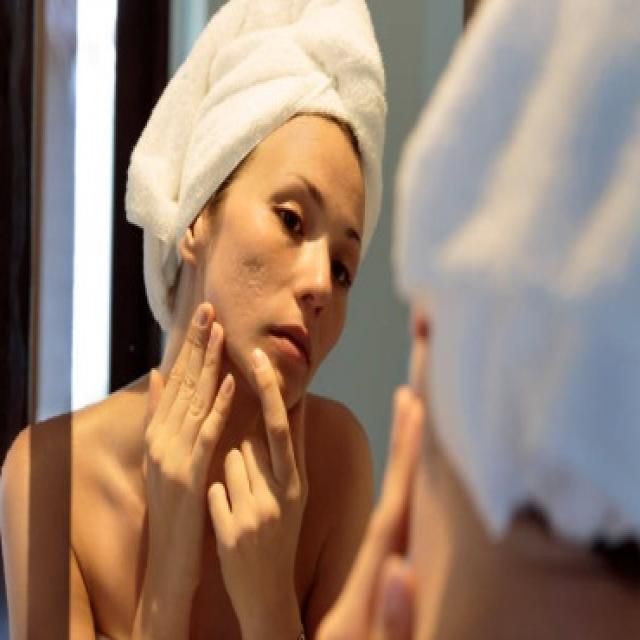adult: (28, 4, 403, 640)
